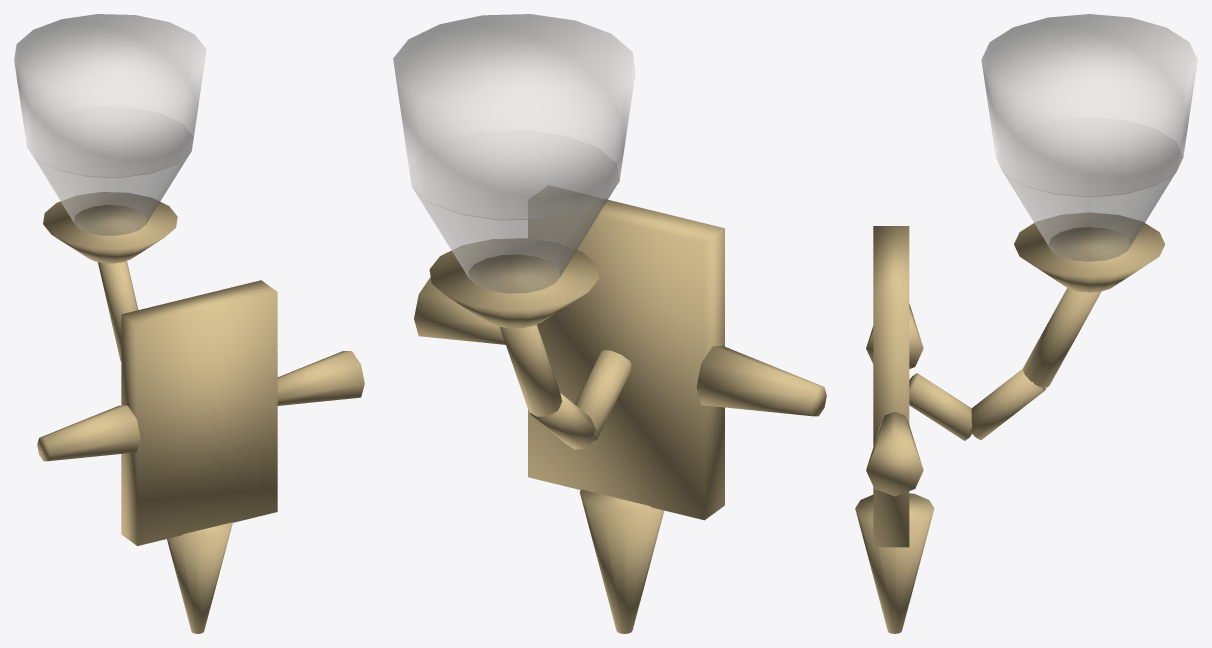
File: SM_Light_WallLamp_01.glb
The picture shows the model from 3 angles, left to right: view 1: azimuth 30°, elevation 25°; view 2: azimuth 150°, elevation 25°; view 3: azimuth 270°, elevation 25°; orthographic projection. The views are drawn at different scales.
Visible parts, largest first — view 1: SM_Light_WallLamp_01; view 2: SM_Light_WallLamp_01; view 3: SM_Light_WallLamp_01.
Boxes of the visible parts, <box> form: SM_Light_WallLamp_01: <box>14,14,364,633</box>; SM_Light_WallLamp_01: <box>393,14,826,633</box>; SM_Light_WallLamp_01: <box>855,14,1197,633</box>.
Size of the model in its own units: 0.22 by 0.3495 by 0.19.
